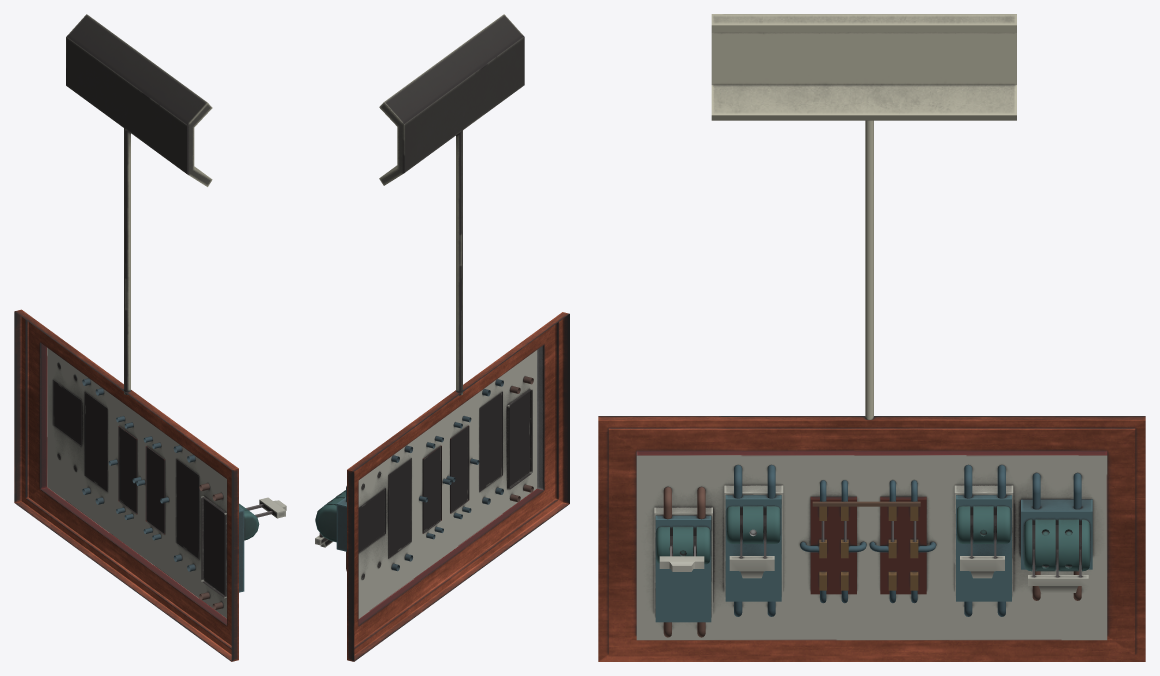
File: SM_Switch.fbx
3 views of the same model, side by side, from view 1: azimuth 30°, elevation 25°; view 2: azimuth 150°, elevation 25°; view 3: azimuth 270°, elevation 25° (orthographic). The views are drawn at different scales.
Visible parts, largest first — view 1: SM_Switch; view 2: SM_Switch; view 3: SM_Switch.
Boxes of the visible parts, box(x1,y1,x2,y2) form: SM_Switch: box(14, 14, 286, 661); SM_Switch: box(315, 14, 569, 661); SM_Switch: box(598, 14, 1145, 661).
Bounding box in the file's own units: 12.65 × 56.33 × 74.57.
1 material, 1 textured.
